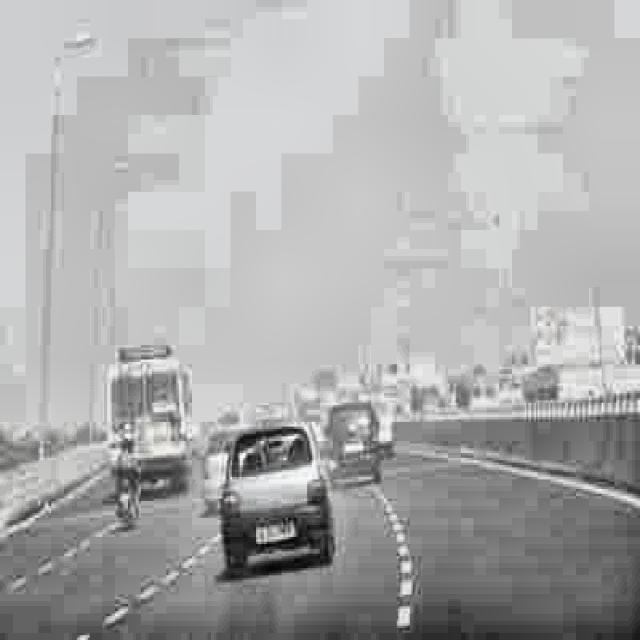license_plate: (255, 516, 297, 546), (340, 439, 364, 455)
